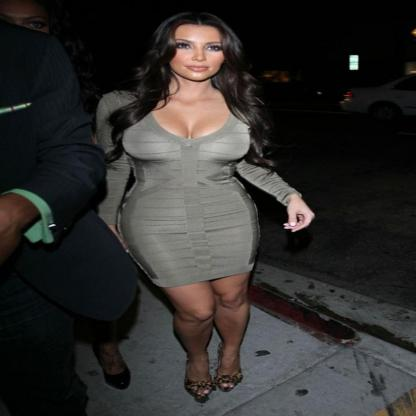face: (170, 25, 228, 82), (3, 4, 49, 50)
